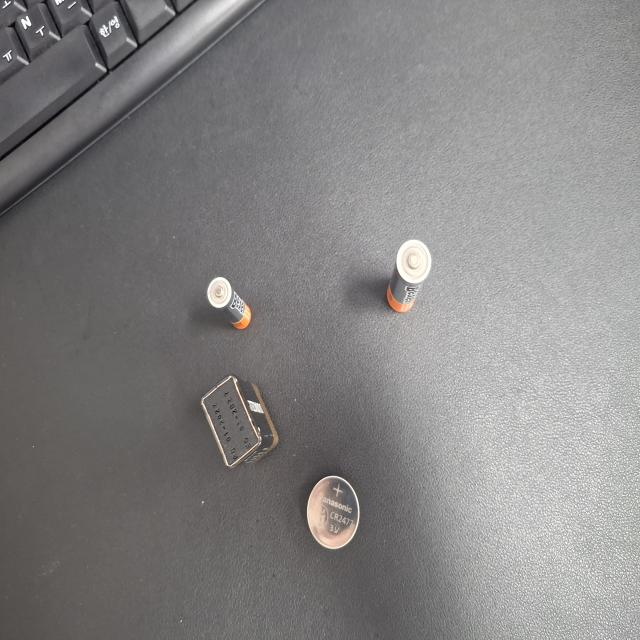9V: (129, 268, 199, 372)
AA: (246, 516, 300, 576)
AAA: (233, 277, 272, 335)
COIN: (69, 409, 123, 480)
